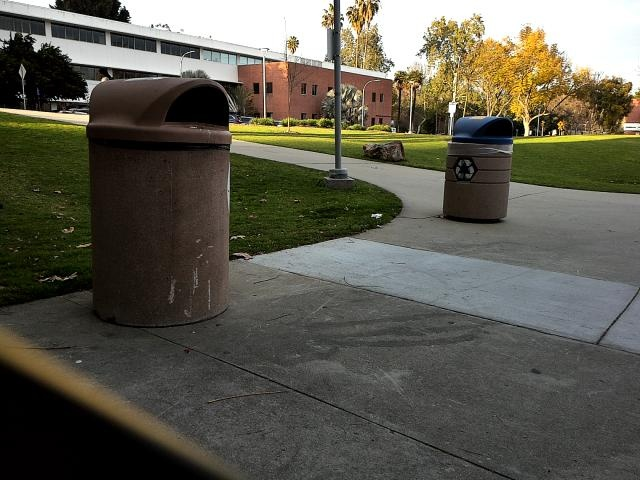trashcan: (81, 72, 241, 325), (446, 111, 513, 226)
